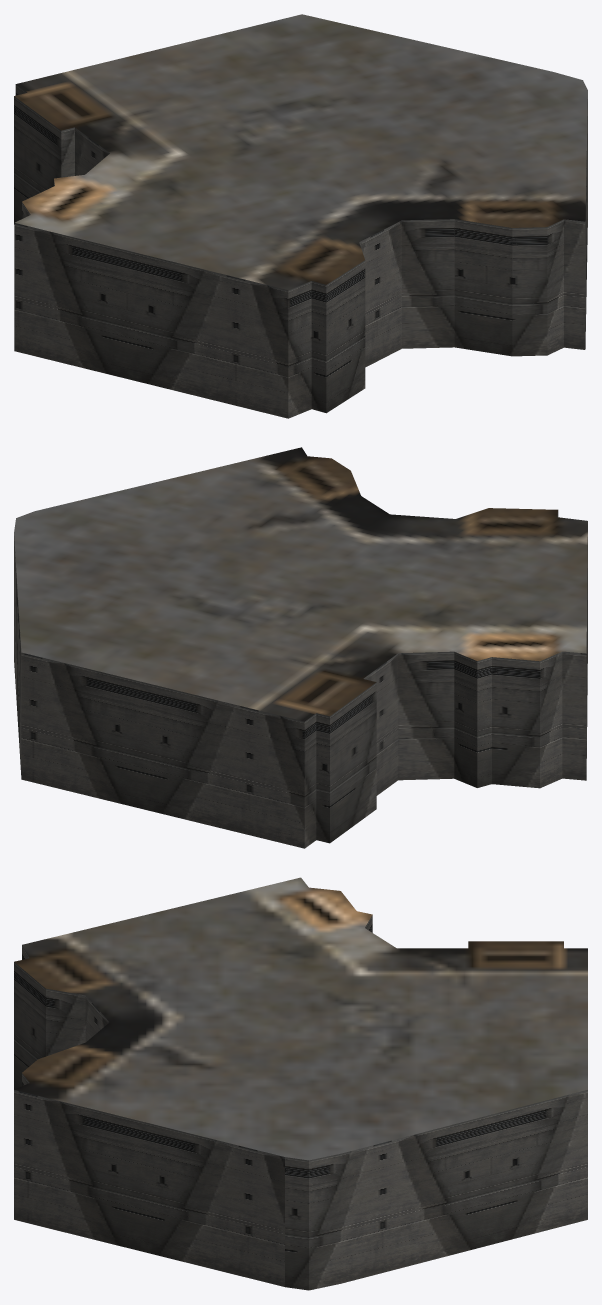
The model's file is fortress_light_a_23.glb.
The picture shows the model from 3 angles, top to bottom: view 1: azimuth 30°, elevation 25°; view 2: azimuth 150°, elevation 25°; view 3: azimuth 270°, elevation 25°; orthographic projection. The views are drawn at different scales.
Visible parts, largest first — view 1: buildings/saxarba/fortress_light/fortress_light_a_23; view 2: buildings/saxarba/fortress_light/fortress_light_a_23; view 3: buildings/saxarba/fortress_light/fortress_light_a_23.
Part boxes in pixels (left/top/right/bottom): buildings/saxarba/fortress_light/fortress_light_a_23: left=14, top=14, right=587, bottom=418; buildings/saxarba/fortress_light/fortress_light_a_23: left=14, top=447, right=587, bottom=848; buildings/saxarba/fortress_light/fortress_light_a_23: left=14, top=877, right=587, bottom=1290.
Size of the model in its own units: 84 by 18 by 72.
